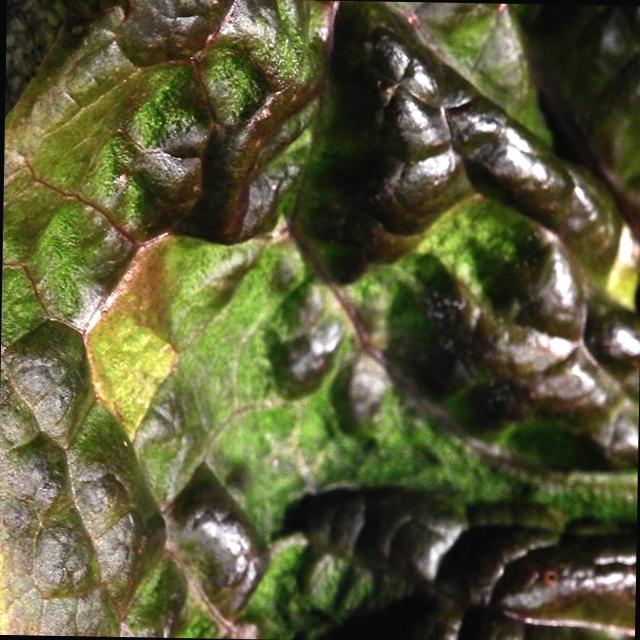Downy_mildew: (307, 16, 620, 442)
